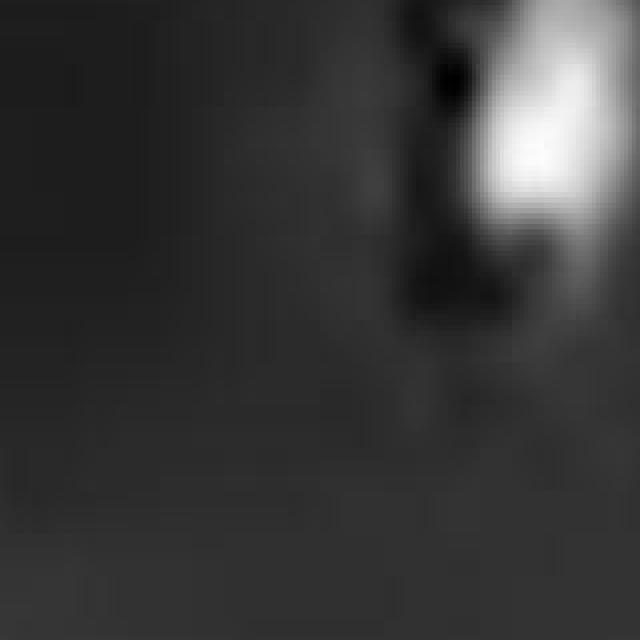person: (421, 1, 640, 380)
